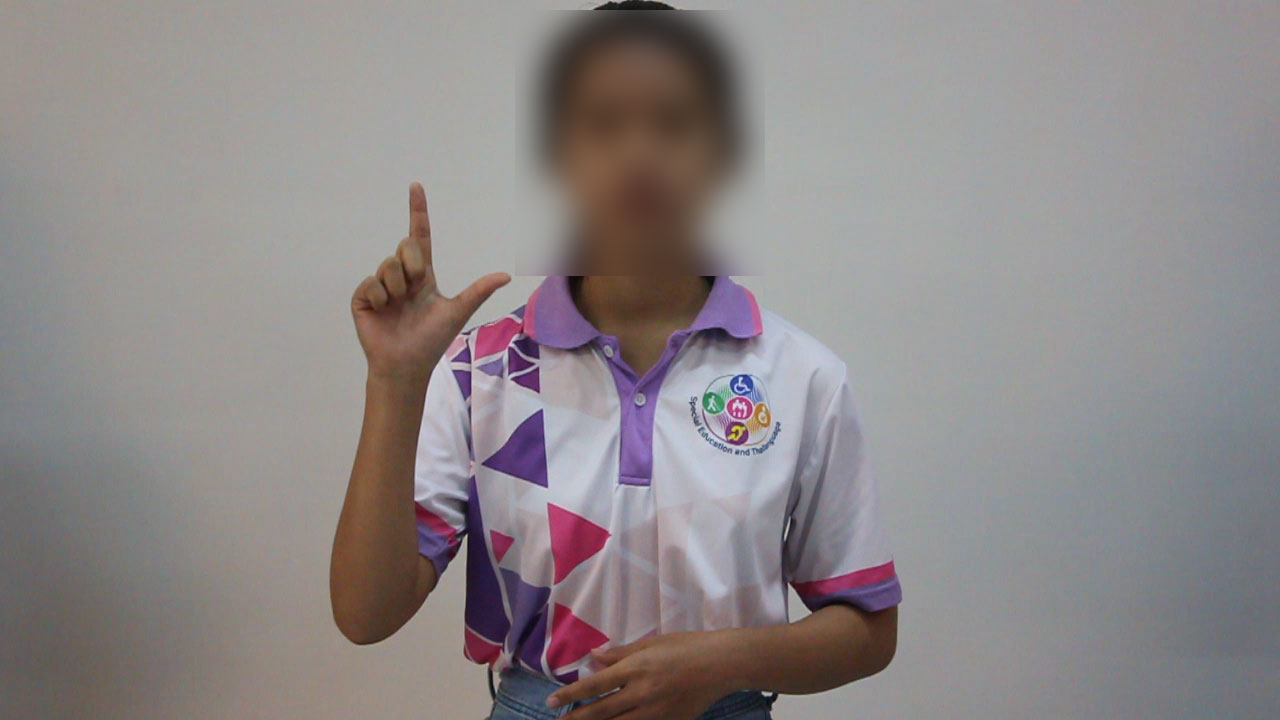lor: (336, 161, 525, 406)
